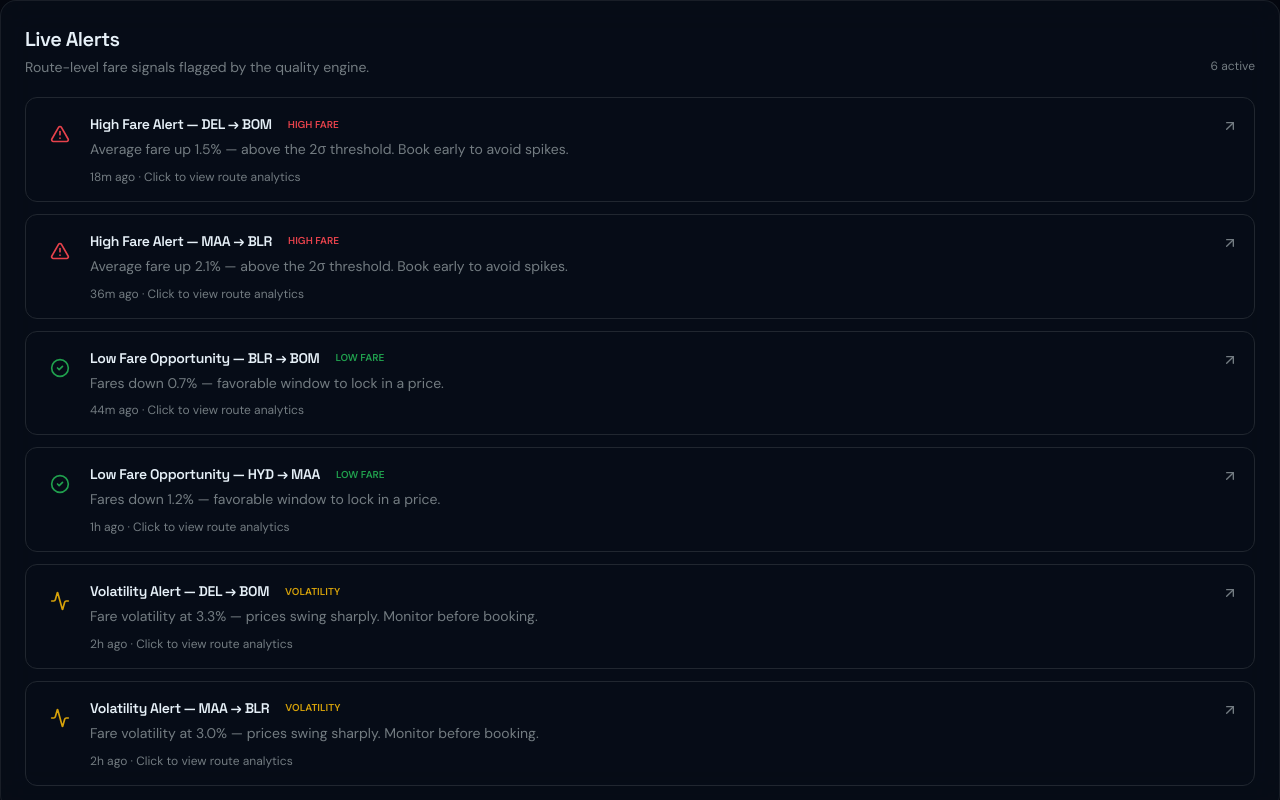
Test: AlertsPanel › closes the analytics dialog via the Close button
The image size is (1280, 800).
Click the button with test id "alert.high-del-bom".
click(181, 124)  # box [25, 97, 1255, 202]
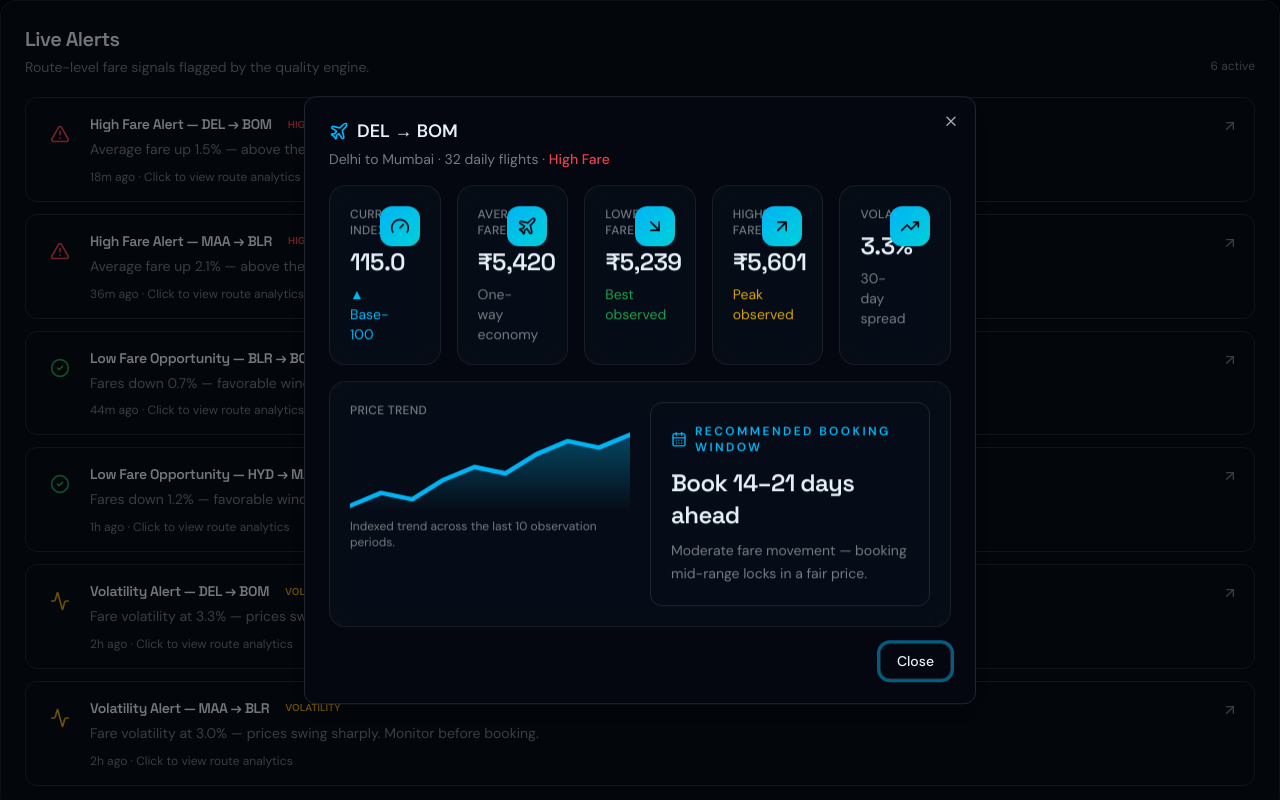
Expected: the dialog is shown, [304, 96, 976, 704]
Click the button with test id "alert.close_button".
click(915, 661)  # box [880, 643, 951, 679]
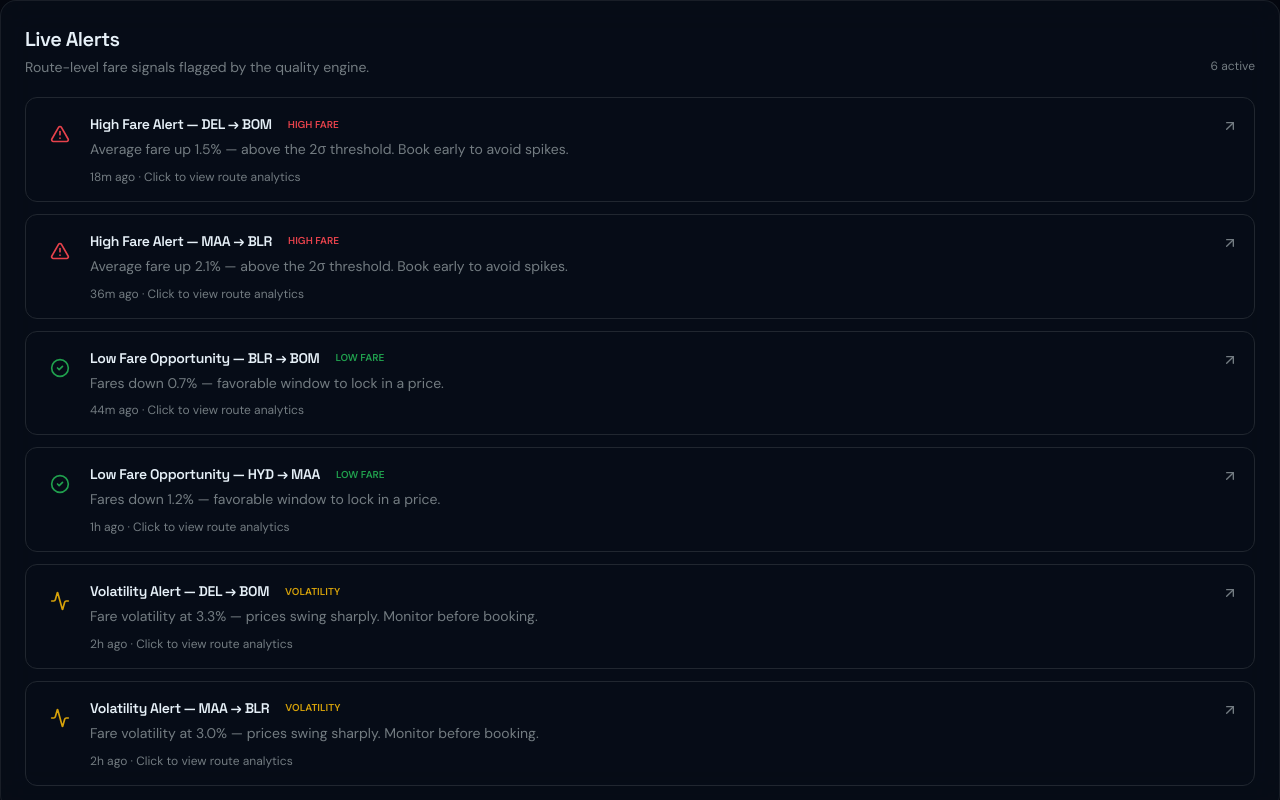
Expected: the dialog is gone
